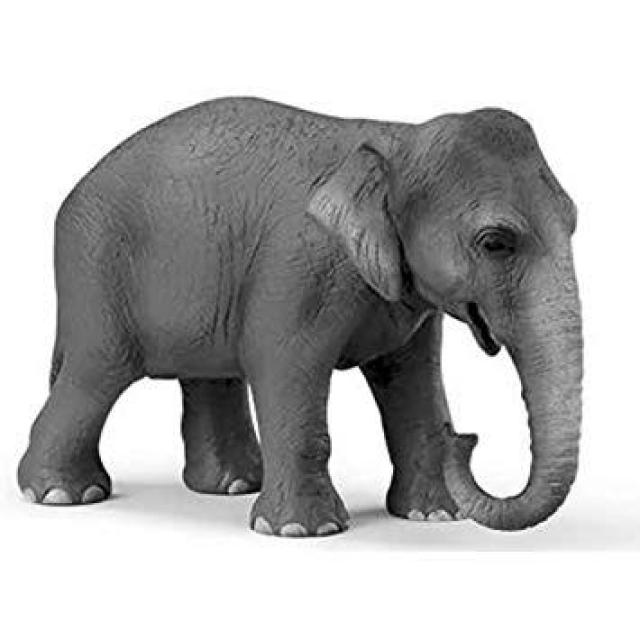Elephant: (15, 92, 584, 537)
